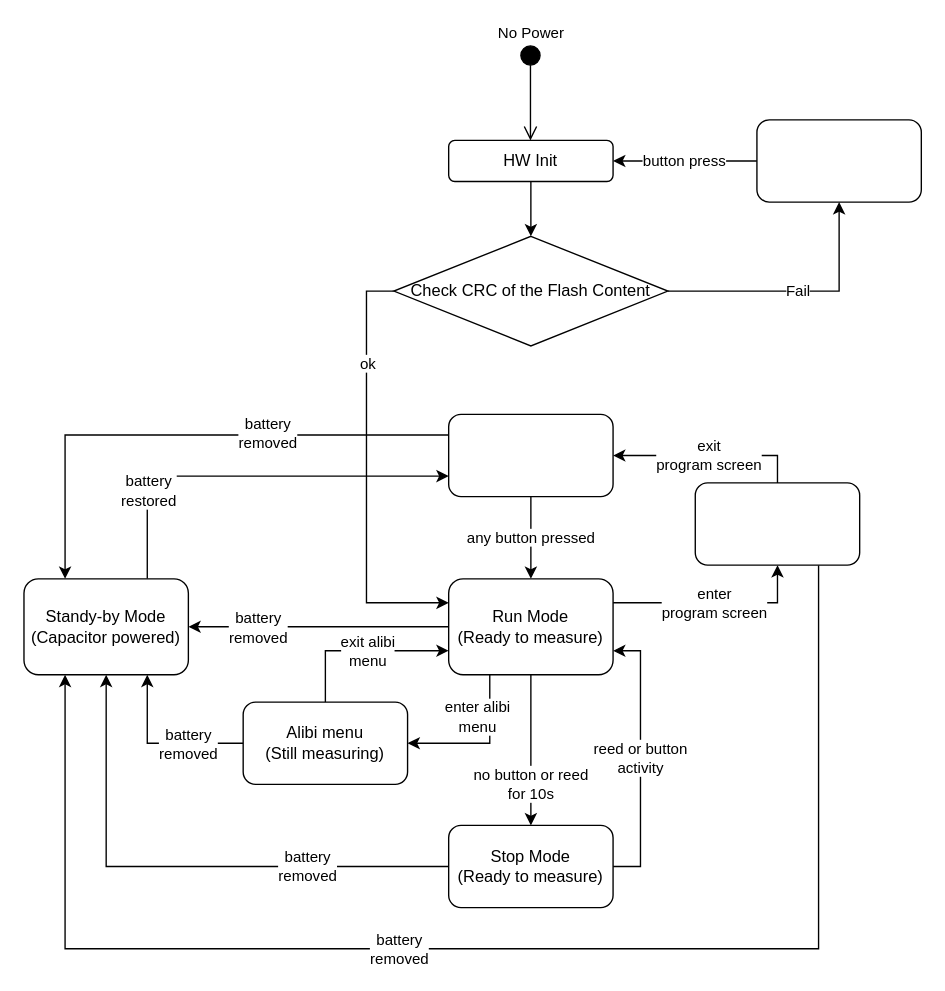
Image size: 945x991. Some labels were removed from this diagram. The shapes that lost their labels are listed below. From the top down, each one's centre as x and y in pixels, then its label:
At point (838, 160): "CRC Err Screen".
At point (530, 455): "Stop Mode (Not measuring)".
At point (777, 523): "Program Screen (Still measuring)".
